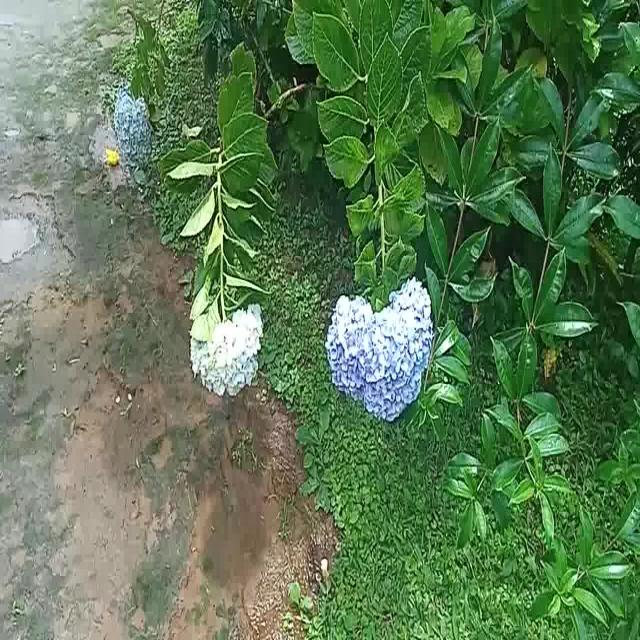Flower: (324, 279, 435, 424), (190, 305, 264, 396), (111, 86, 155, 163)
